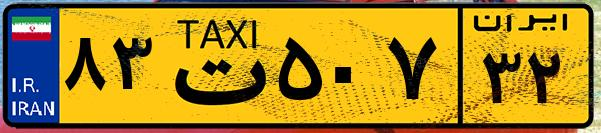0: (330, 28, 385, 110)
2: (525, 38, 570, 115)
3: (475, 38, 525, 113), (110, 28, 158, 98)
5: (270, 28, 330, 110)
7: (385, 28, 445, 110)
8: (57, 26, 110, 100)
ت: (158, 12, 270, 120)
